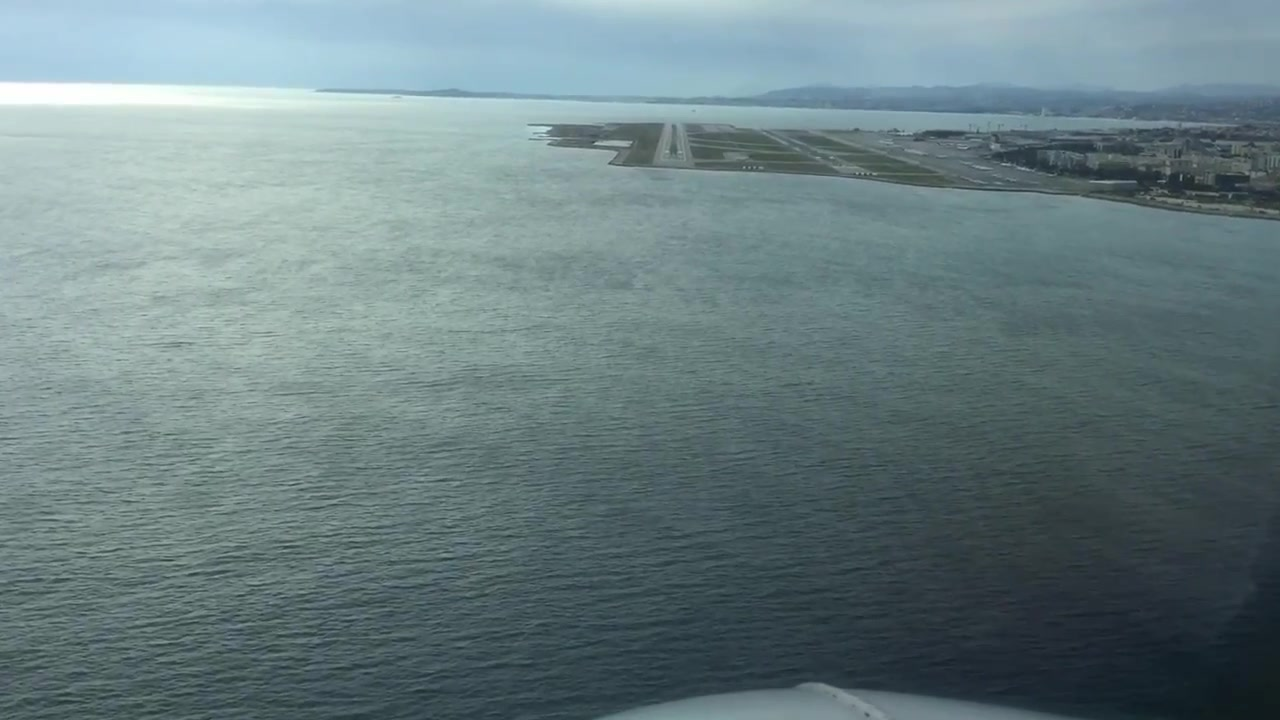runway: (763, 127, 873, 175), (653, 118, 693, 168)
